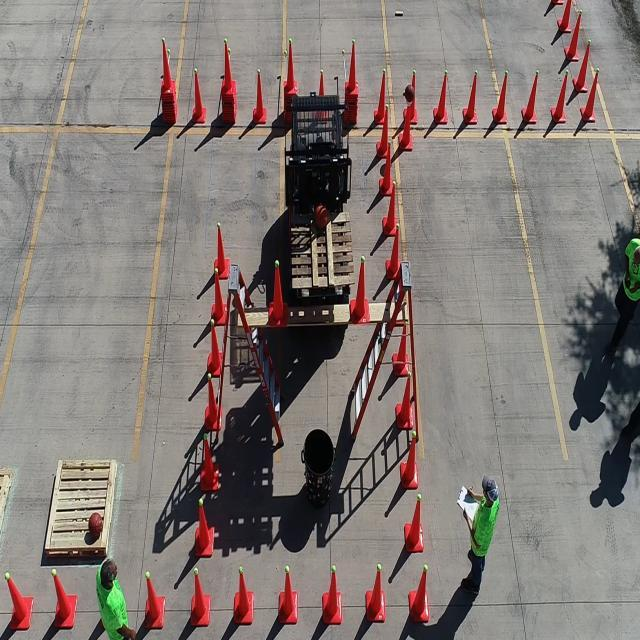forklift: (286, 92, 350, 212)
person: (458, 466, 497, 576), (97, 557, 132, 640), (617, 224, 640, 337)
